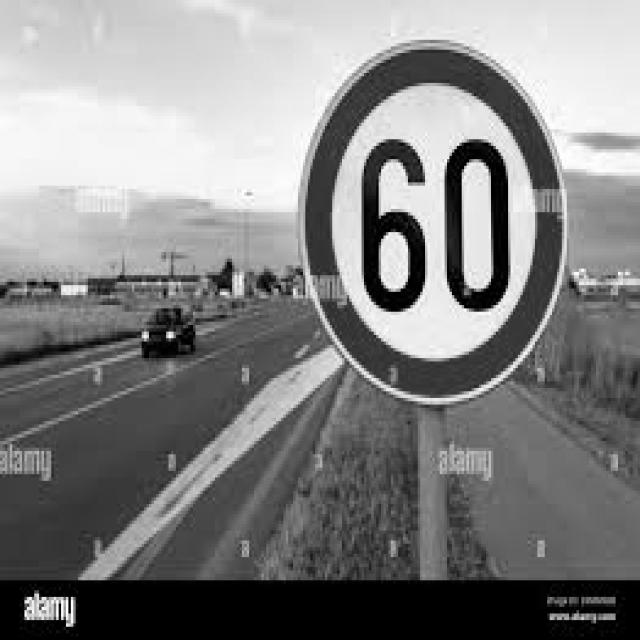speed_60: (297, 40, 570, 408)
